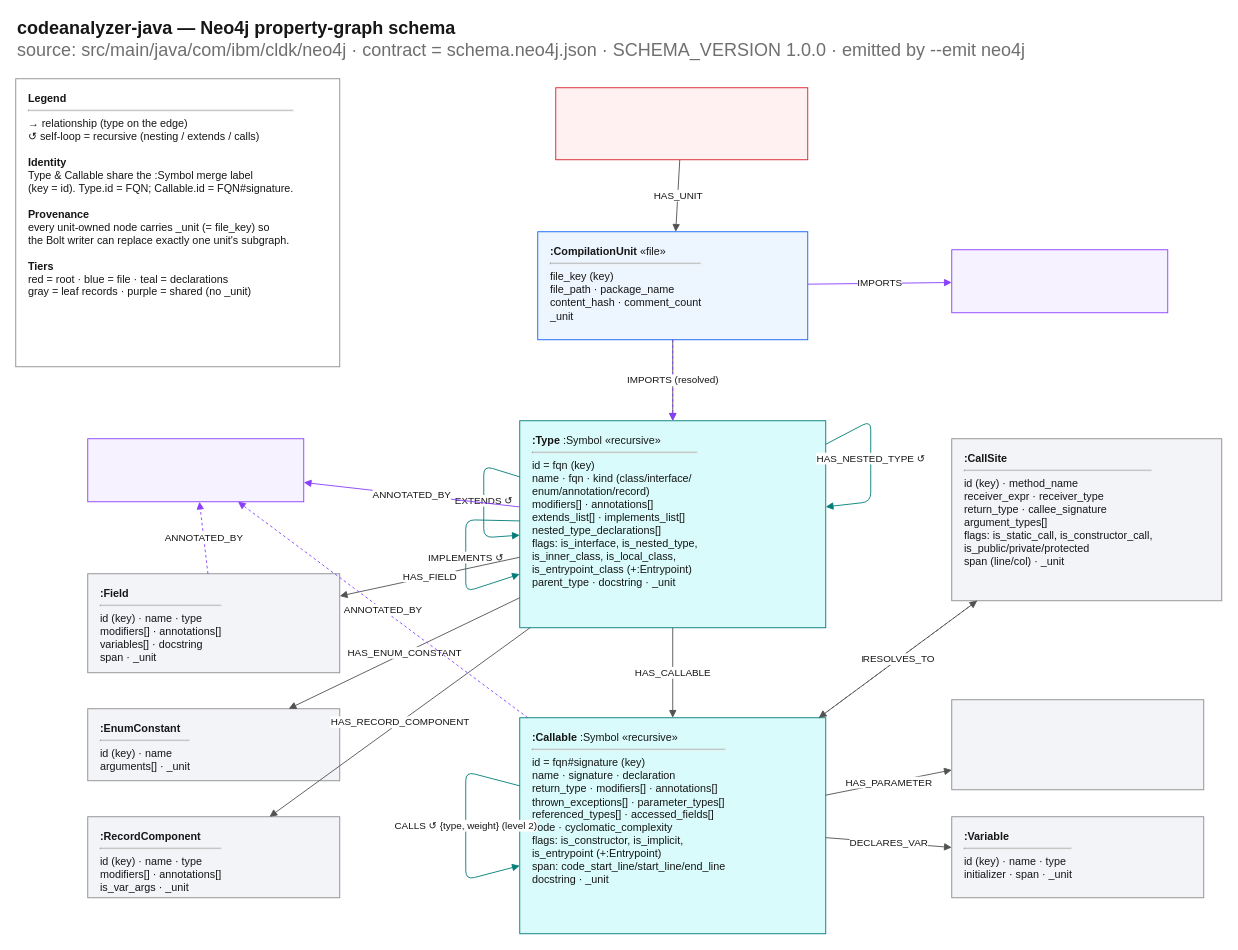
Some shapes in this 1238 by 950 pixel diagram are drawn without their labels. The shapes that lost their labels are listed below. From the top down, each one's centre as x and y in pixels, then its label:
(681,123): :Application «root» name (key) schema_version
(1059,281): :Package «shared» name (key)
(195,470): :Annotation «shared» name (key)
(1077,744): :Parameter id (key) · name · type annotations[] · modifiers[] span · _unit
